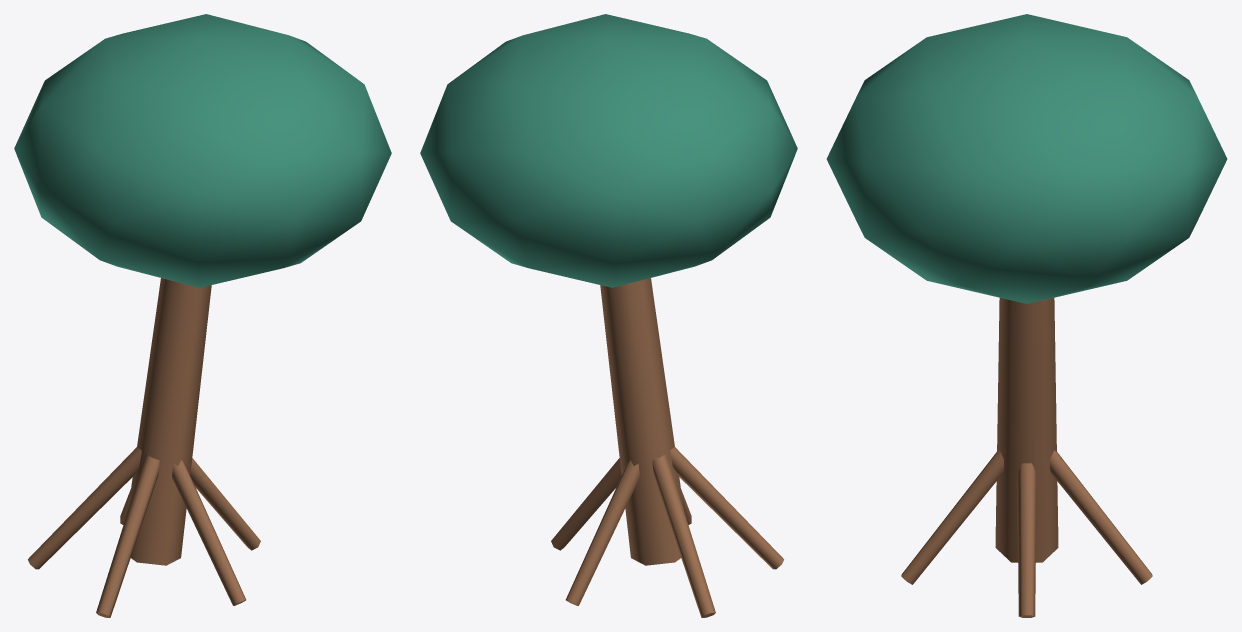
The model's file is mangrove-tree.glb.
3 views of the same model, side by side, from view 1: azimuth 30°, elevation 25°; view 2: azimuth 150°, elevation 25°; view 3: azimuth 270°, elevation 25° (orthographic). The views are drawn at different scales.
Parts seen in each view (by area): view 1: mangrove-crown, trunk, exposed-root (×4); view 2: mangrove-crown, trunk, exposed-root (×4); view 3: mangrove-crown, trunk, exposed-root (×3).
Part boxes in pixels (box(x1,y1,x2,y2)): mangrove-crown: box(14, 14, 391, 287); trunk: box(128, 278, 211, 565); exposed-root (×4): box(28, 447, 260, 617); mangrove-crown: box(420, 14, 797, 287); trunk: box(600, 278, 683, 565); exposed-root (×4): box(551, 447, 783, 617); mangrove-crown: box(826, 14, 1227, 303); trunk: box(995, 298, 1058, 562); exposed-root (×3): box(901, 450, 1152, 617).
Size of the model in its own units: 7 by 10.67 by 7.
